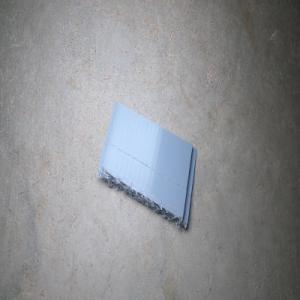PlasticPart: (95, 101, 196, 229)
